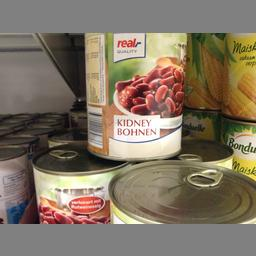beans: (82, 31, 185, 159)
